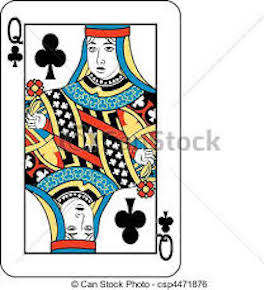QueenOfClubs: (2, 1, 183, 280)
